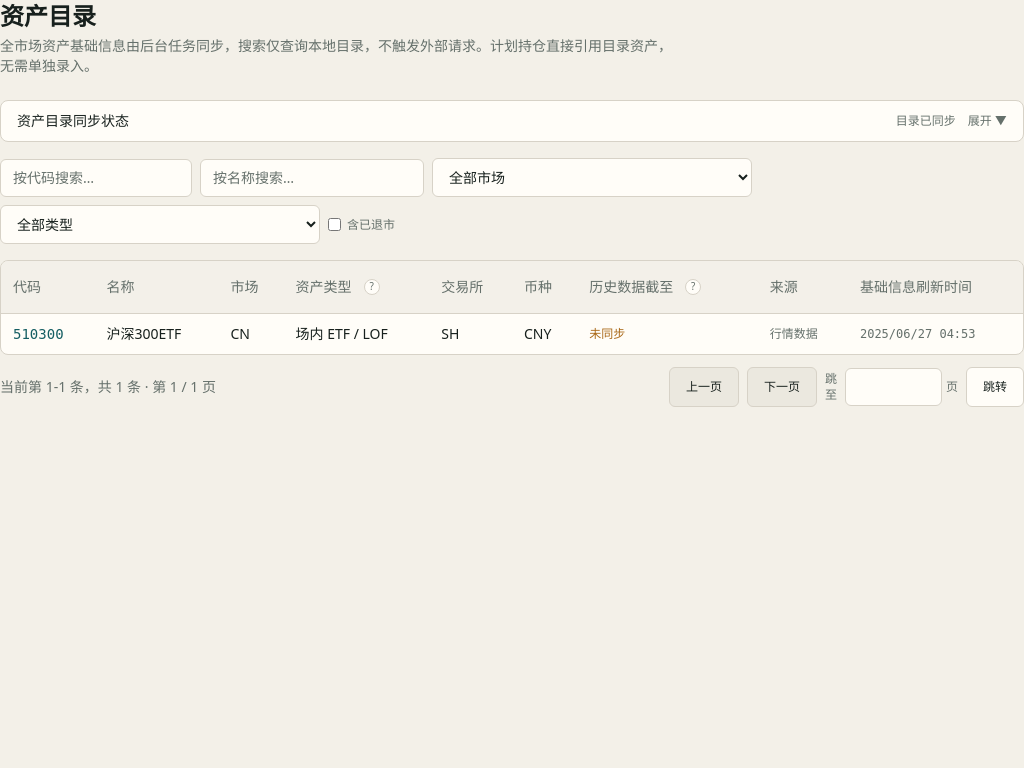
Test: MarketAssetsPage › collapses the sync panel by default when every scope is complete
Expected: the table with test id "market-assets-table" is shown, top-left (1, 261), bottom-right (1023, 354)
Expected: the text with test id "directory-sync-summary" reads "目录已同步", top-left (896, 112), bottom-right (956, 129)
Note: Manual expand is respected.
Click the button with test id "directory-sync-toggle".
click(73, 120)  # box top-left (1, 101), bottom-right (1023, 141)
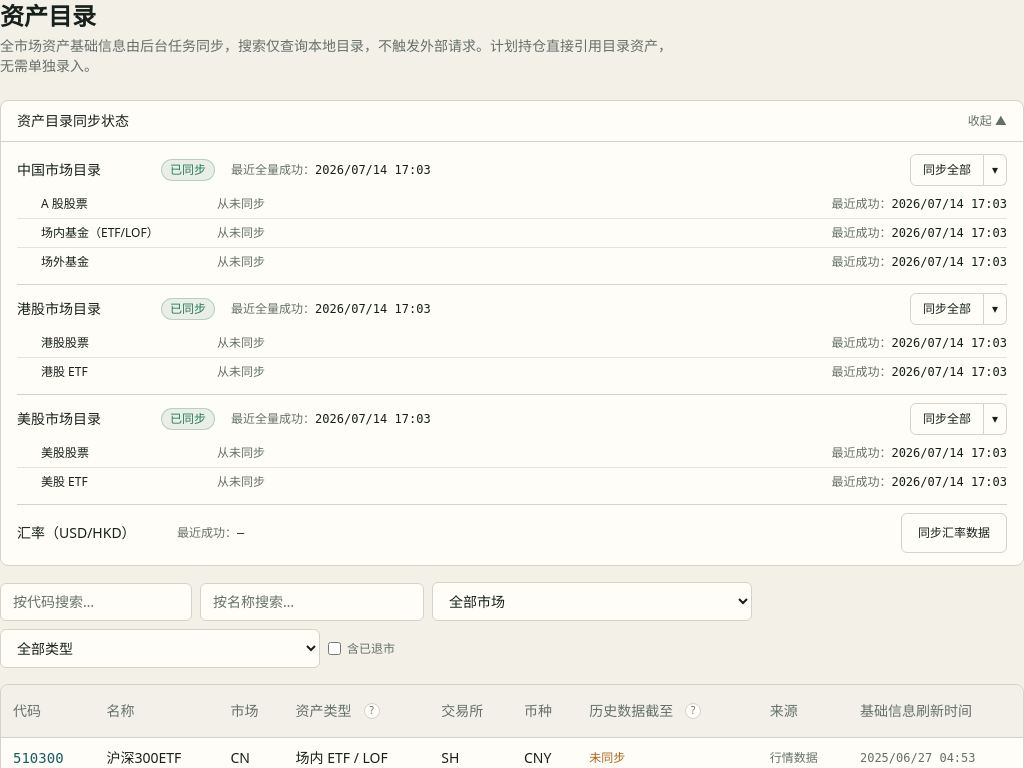
Expected: the element with test id "directory-sync-cn_all" is shown, top-left (17, 146), bottom-right (1007, 285)
